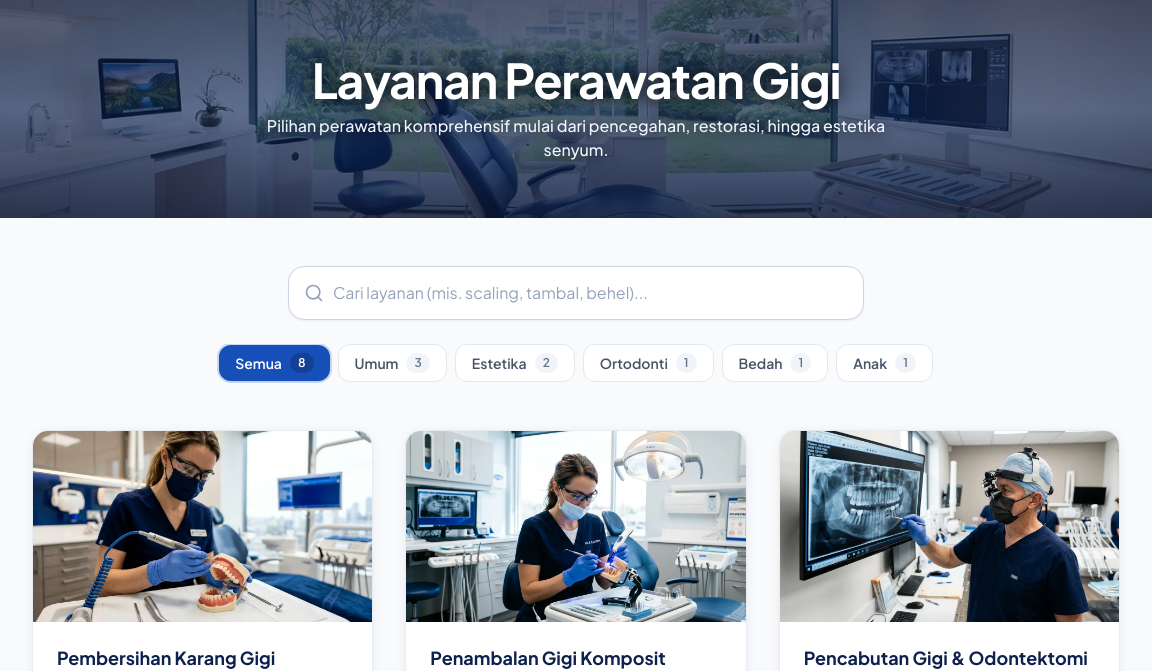
Services.vue (FR-4.1, FR-4.4) › shows friendly empty state when no services match query
Type "layanan-yang-tidak-ada-xyz" into the search field with placeholder "Cari layanan (mis. scaling, tambal, behel)..." at (576, 293), box [288,266,864,320]
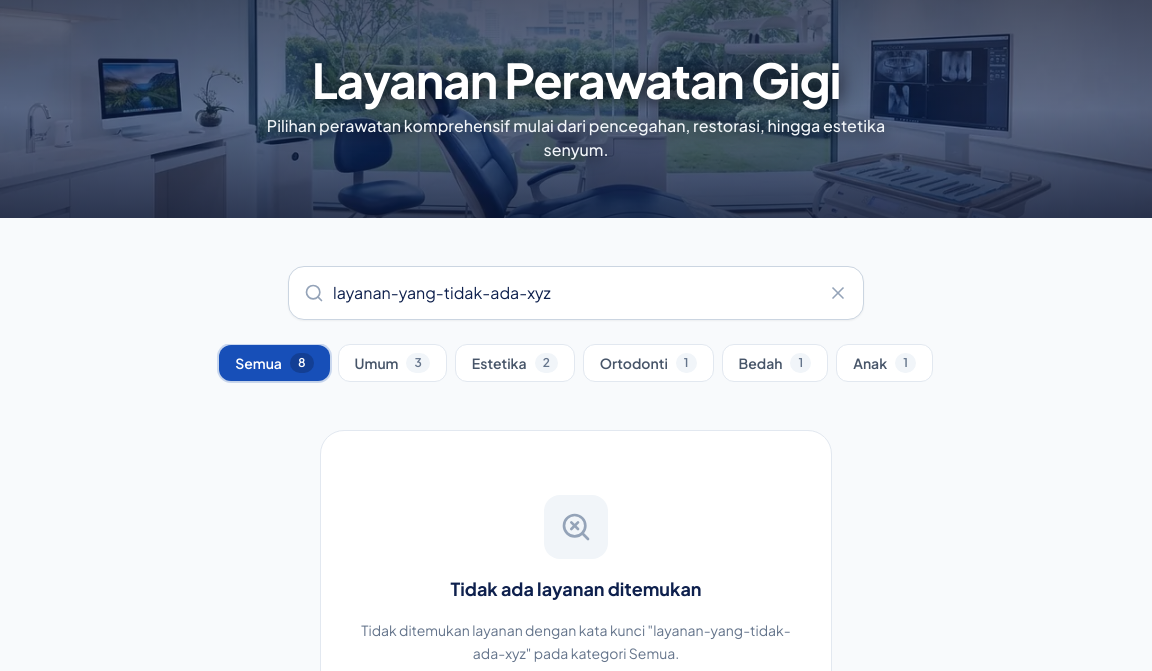
expect the text "Tidak ada layanan ditemukan" is shown: met, box [450,577,702,600]
